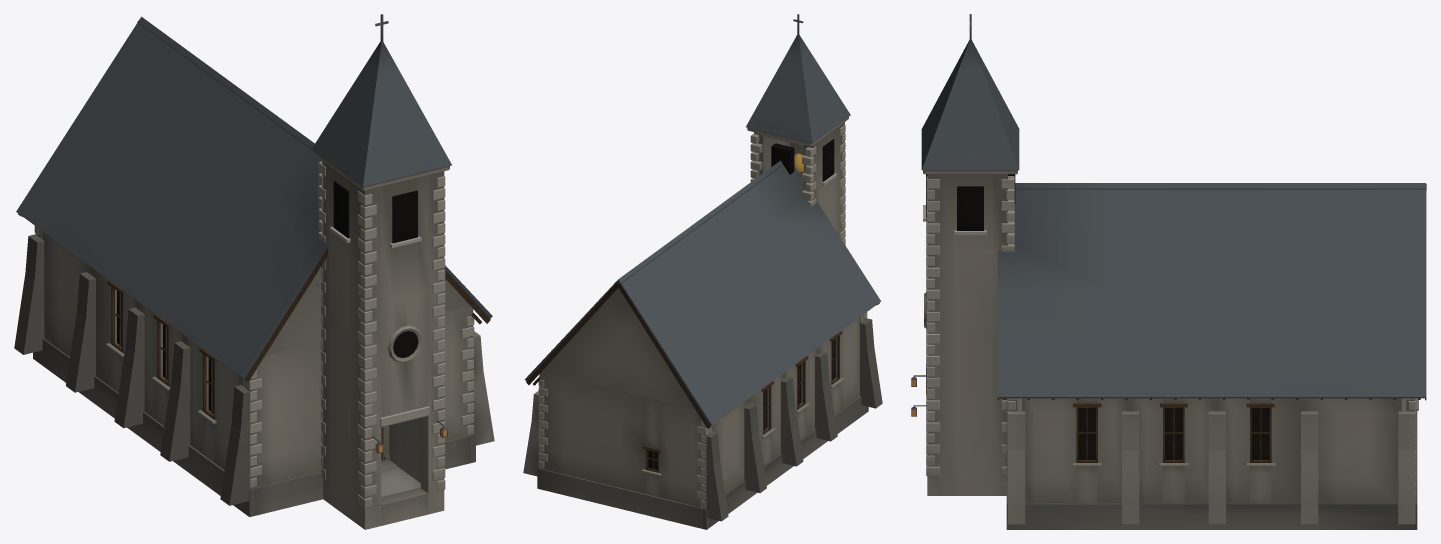
File: church.glb
3 renders of one model, left to right at view 1: azimuth 30°, elevation 25°; view 2: azimuth 150°, elevation 25°; view 3: azimuth 270°, elevation 25°, orthographic. The views are drawn at different scales.
Visible parts, largest first — view 1: ext; view 2: ext; view 3: ext.
Part boxes in pixels (x1,y1,x2,y2): ext: (14, 14, 494, 529); ext: (523, 14, 882, 529); ext: (911, 14, 1426, 529).
Bounding box in the file's own units: 10.7 × 18.85 × 19.01.
